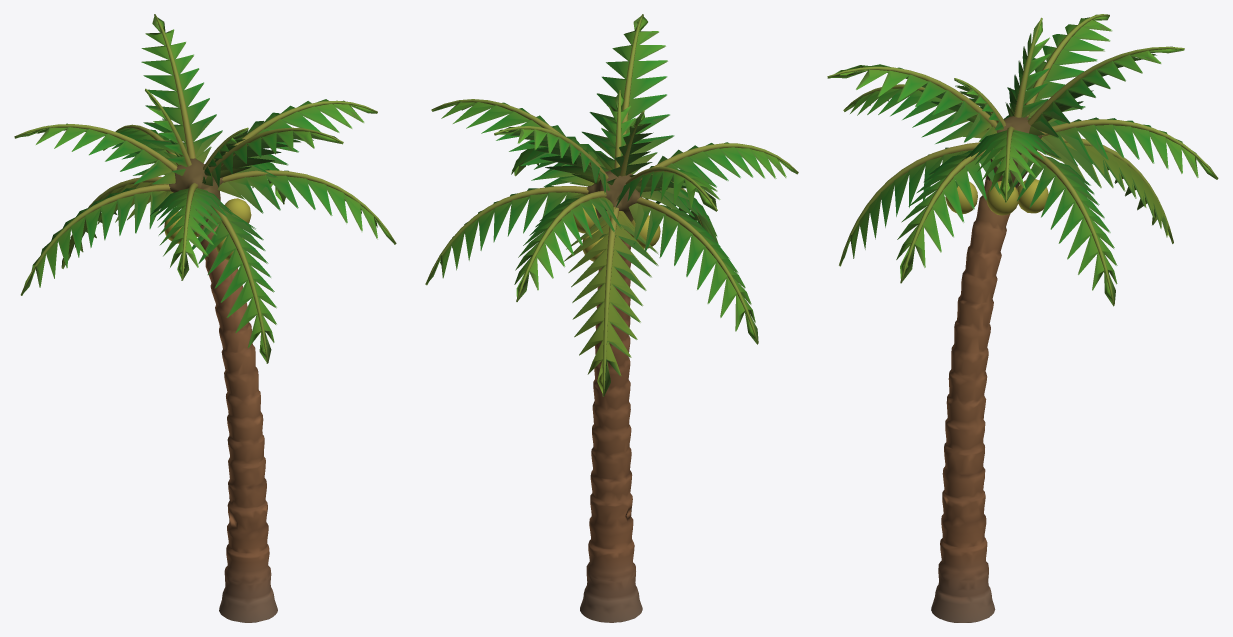
The model's file is palm_b.glb.
The picture shows the model from 3 angles, left to right: view 1: azimuth 30°, elevation 25°; view 2: azimuth 150°, elevation 25°; view 3: azimuth 270°, elevation 25°; orthographic projection. The views are drawn at different scales.
Parts seen in each view (by area): view 1: palm_b_mesh; view 2: palm_b_mesh; view 3: palm_b_mesh.
Boxes of the visible parts, x1,y1,x2,y2 form: palm_b_mesh: [14, 14, 396, 622]; palm_b_mesh: [425, 14, 798, 622]; palm_b_mesh: [827, 14, 1218, 622].
Size of the model in its own units: 5.41 by 8.1 by 5.07.
